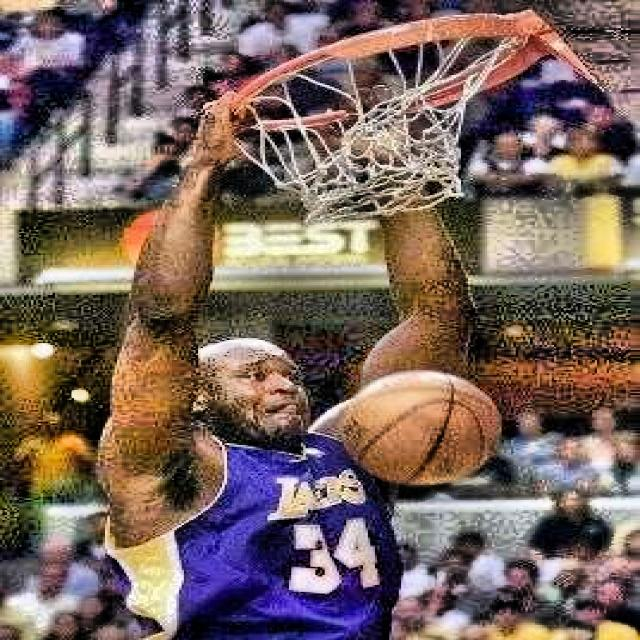board: (340, 369, 500, 486)
rim: (234, 12, 549, 218)
